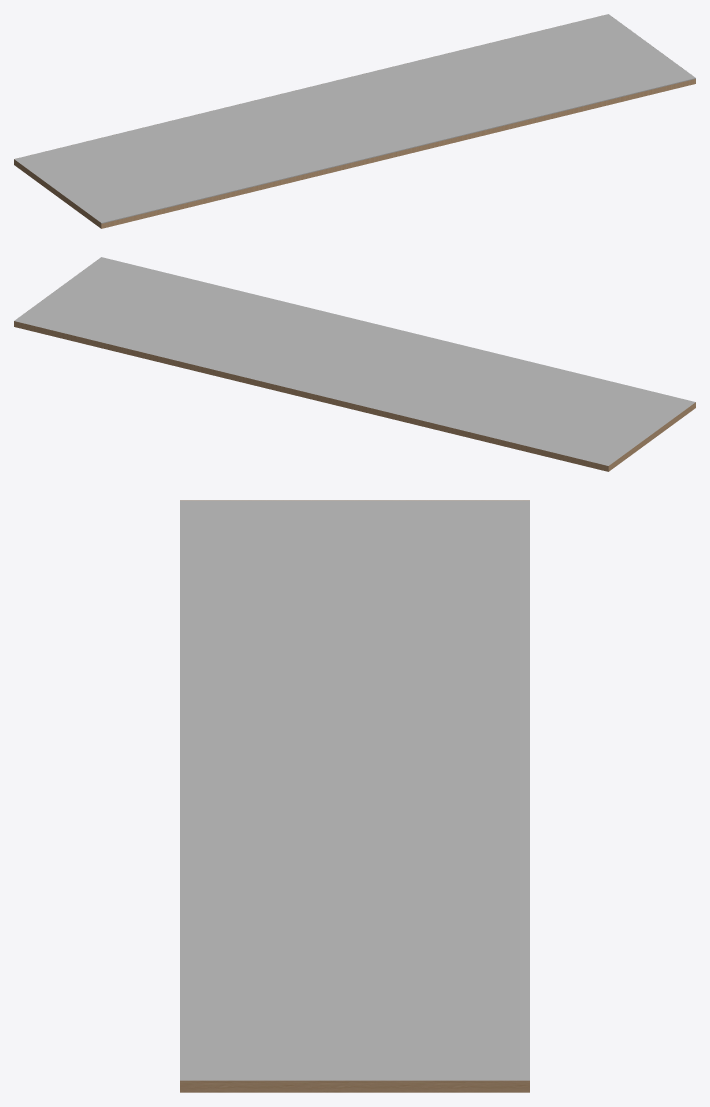
The model's file is CounterTopSteel.glb.
3 renders of one model, top to bottom at view 1: azimuth 30°, elevation 25°; view 2: azimuth 150°, elevation 25°; view 3: azimuth 270°, elevation 25°, orthographic. The views are drawn at different scales.
Visible parts, largest first — view 1: Counter_Tow_Steel; view 2: Counter_Tow_Steel; view 3: Counter_Tow_Steel.
Part boxes in pixels (box(x1,y1,x2,y2)): Counter_Tow_Steel: box(14, 14, 695, 228); Counter_Tow_Steel: box(14, 257, 695, 471); Counter_Tow_Steel: box(180, 500, 529, 1092).
Bounding box in the file's own units: 1.06 × 0.01 × 0.27.
2 materials, 1 textured.
